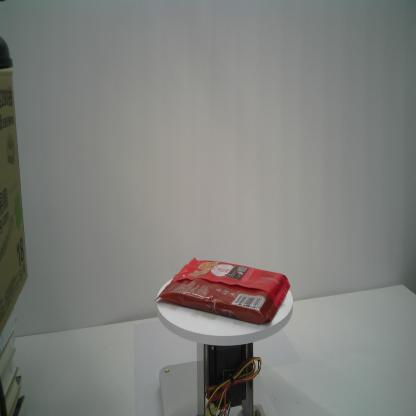Dessert: (155, 256, 290, 326)
